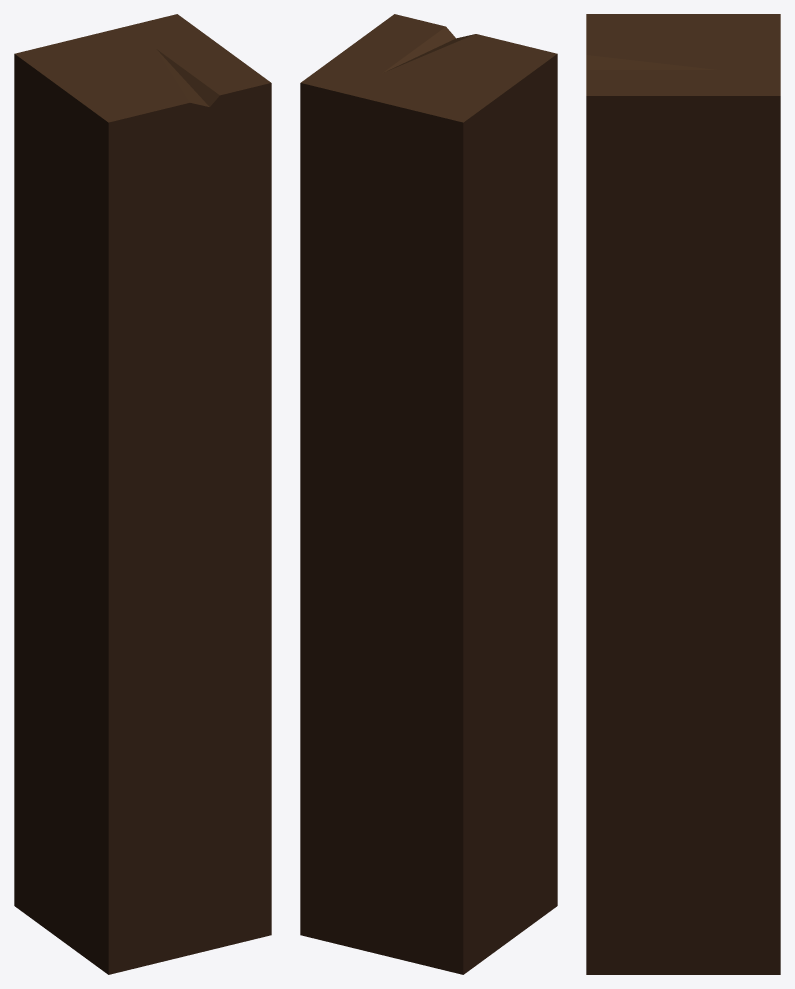
Rendered from Cave_Lair_Wooden_Timber_Fence_Post_03.fbx.
3 views of the same model, side by side, from view 1: azimuth 30°, elevation 25°; view 2: azimuth 150°, elevation 25°; view 3: azimuth 270°, elevation 25° (orthographic). The views are drawn at different scales.
Parts seen in each view (by area): view 1: Cave_Lair_Wooden_Timber_Fence_Post_03; view 2: Cave_Lair_Wooden_Timber_Fence_Post_03; view 3: Cave_Lair_Wooden_Timber_Fence_Post_03.
Boxes of the visible parts, x1,y1,x2,y2 form: Cave_Lair_Wooden_Timber_Fence_Post_03: (14,14,271,974); Cave_Lair_Wooden_Timber_Fence_Post_03: (300,14,557,974); Cave_Lair_Wooden_Timber_Fence_Post_03: (586,14,780,974).
Bounding box in the file's own units: 0.225 × 1.12 × 0.225.
